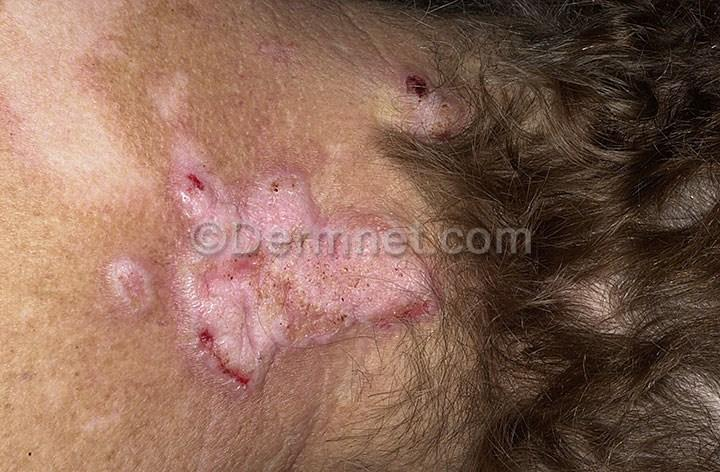Eczema: (302, 217, 449, 363), (174, 260, 293, 413), (89, 6, 216, 124), (157, 158, 306, 258), (56, 254, 167, 333), (371, 59, 464, 150), (236, 22, 330, 90)
